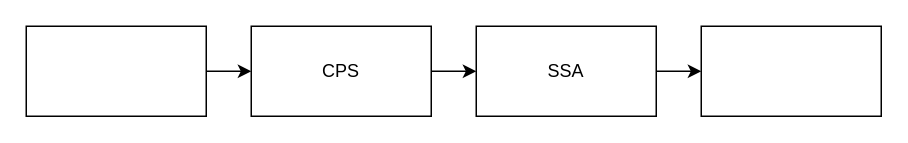
Image size: 908x143. Some labels were removed from this diagram. The centre of each missing label's shape, as x and y in pixels:
"LLVM IR" belongs at point 790,70.
"PCF (direct style)" belongs at point 115,70.
